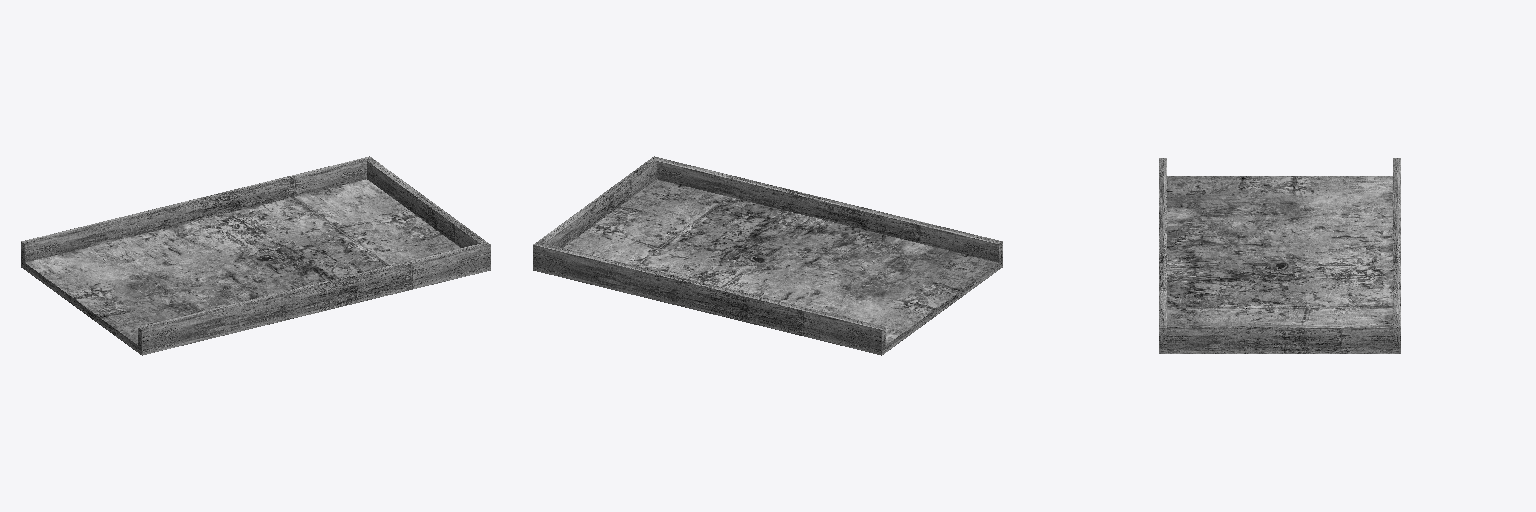
3 renders of one model, left to right at view 1: azimuth 30°, elevation 25°; view 2: azimuth 150°, elevation 25°; view 3: azimuth 270°, elevation 25°, orthographic.
Visible parts, largest first — view 1: Box001, Box003, Box002, Box004; view 2: Box001, Box002, Box003, Box004; view 3: Box001, Box004, Box002, Box003.
Boxes of the visible parts, x1,y1,x2,y2 form: Box001: [21, 179, 490, 355]; Box003: [138, 242, 490, 347]; Box002: [21, 156, 372, 262]; Box004: [367, 159, 485, 247]; Box001: [533, 179, 1002, 355]; Box002: [533, 242, 885, 347]; Box003: [651, 156, 1002, 262]; Box004: [538, 159, 656, 247]; Box001: [1159, 176, 1400, 353]; Box004: [1167, 325, 1392, 346]; Box002: [1393, 158, 1400, 346]; Box003: [1159, 158, 1166, 346].
Bounding box in the file's own units: 100 × 7 × 60.
Materials: 1 (1 with a texture image).